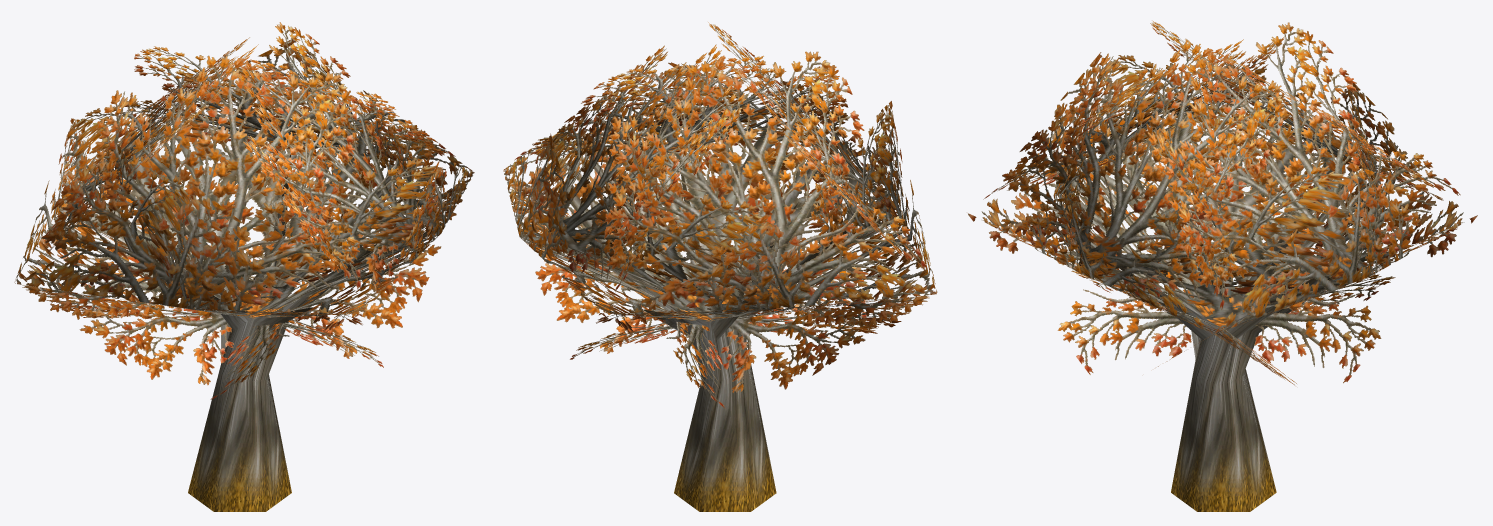
Rendered from westfalltreecanopy01.obj.
3 views of the same model, side by side, from view 1: azimuth 30°, elevation 25°; view 2: azimuth 150°, elevation 25°; view 3: azimuth 270°, elevation 25° (orthographic). The views are drawn at different scales.
Visible parts, largest first — view 1: Geoset1, Geoset0; view 2: Geoset1, Geoset0; view 3: Geoset1, Geoset0.
Boxes of the visible parts, <box> form: Geoset1: <box>14,22,474,399</box>; Geoset0: <box>107,154,376,511</box>; Geoset1: <box>503,22,937,408</box>; Geoset0: <box>577,157,853,511</box>; Geoset1: <box>968,20,1477,385</box>; Geoset0: <box>1074,185,1367,511</box>.
Bounding box in the file's own units: 65.31 × 60.62 × 63.21.
2 materials, 2 textured.
